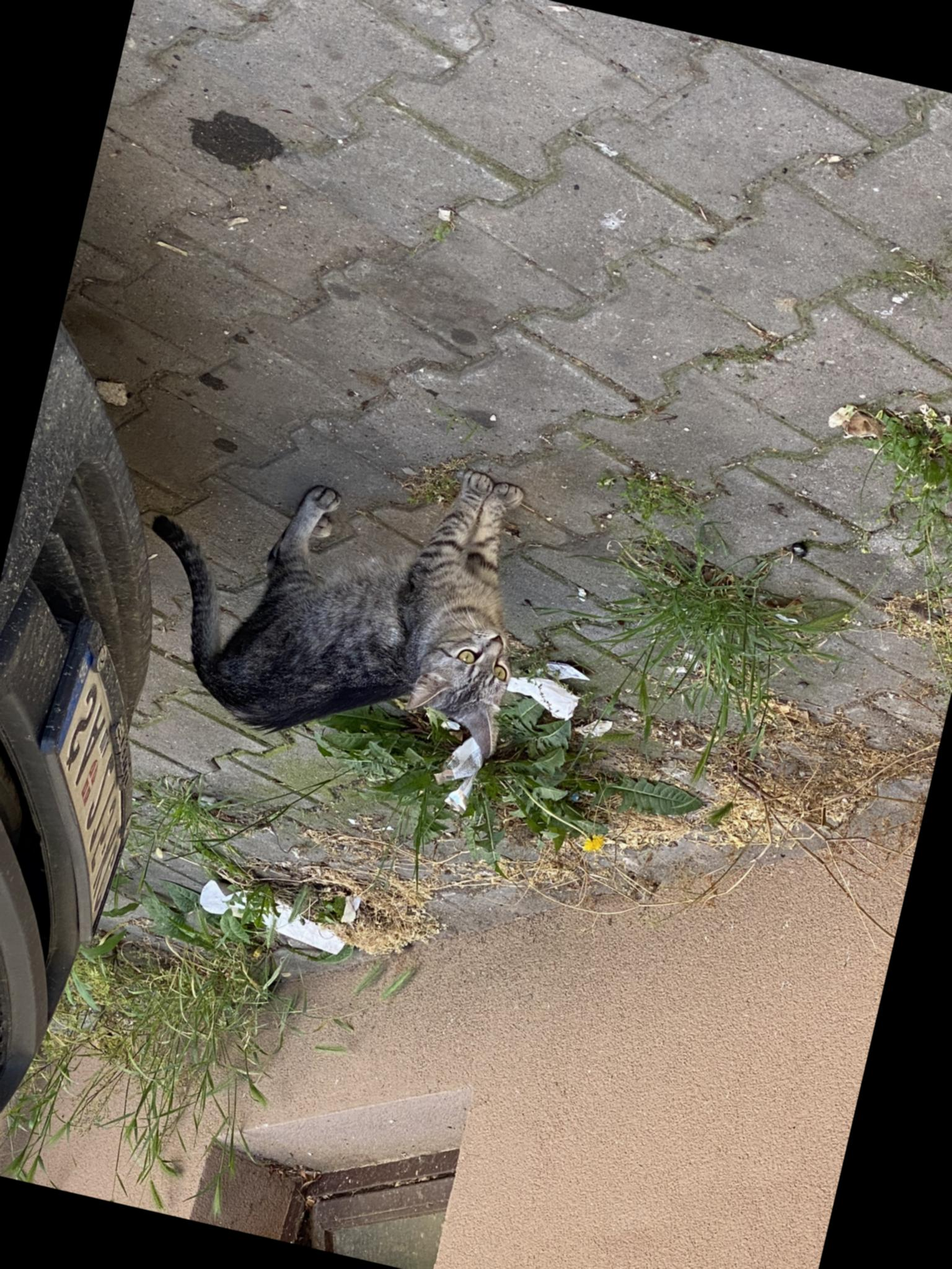macka: (110, 400, 558, 783)
